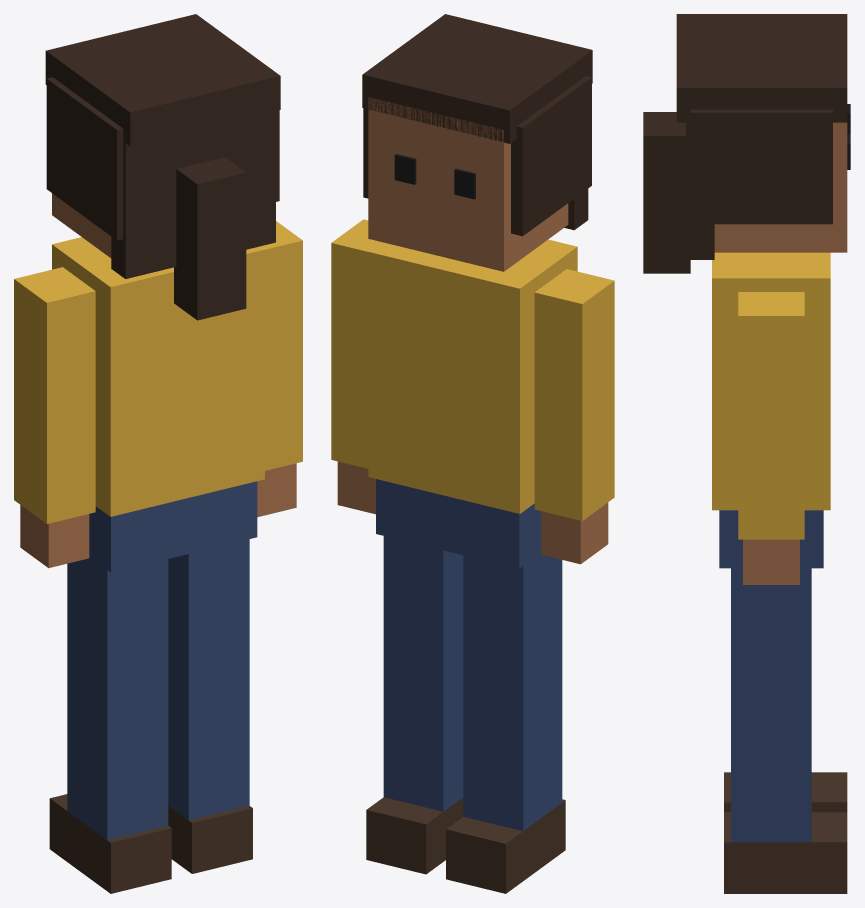
Rendered from worker_female.glb.
3 renders of one model, left to right at view 1: azimuth 30°, elevation 25°; view 2: azimuth 150°, elevation 25°; view 3: azimuth 270°, elevation 25°, orthographic. The views are drawn at different scales.
Parts seen in each view (by area): view 1: worker_female.001; view 2: worker_female.001; view 3: worker_female.001.
Part boxes in pixels (<box>): worker_female.001: <box>14,14,302,893</box>; worker_female.001: <box>331,14,614,893</box>; worker_female.001: <box>643,14,850,893</box>.
Size of the model in its own units: 0.63 by 1.88 by 0.437.
1 material, 1 textured.
